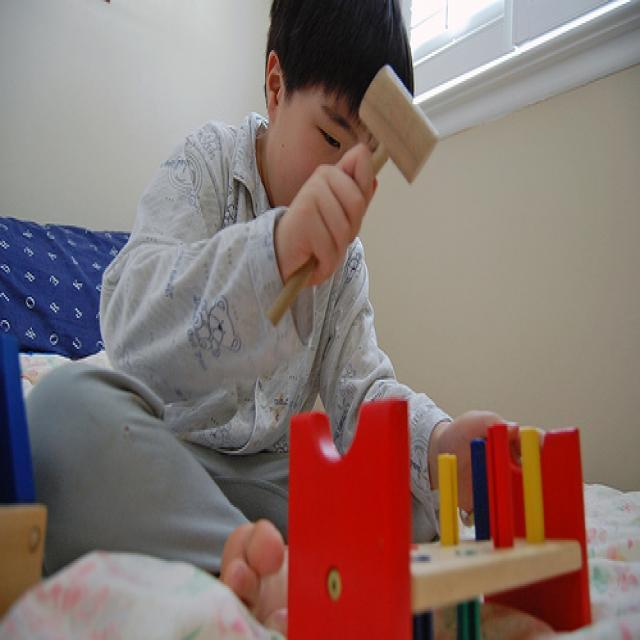hammer: (262, 58, 448, 334)
